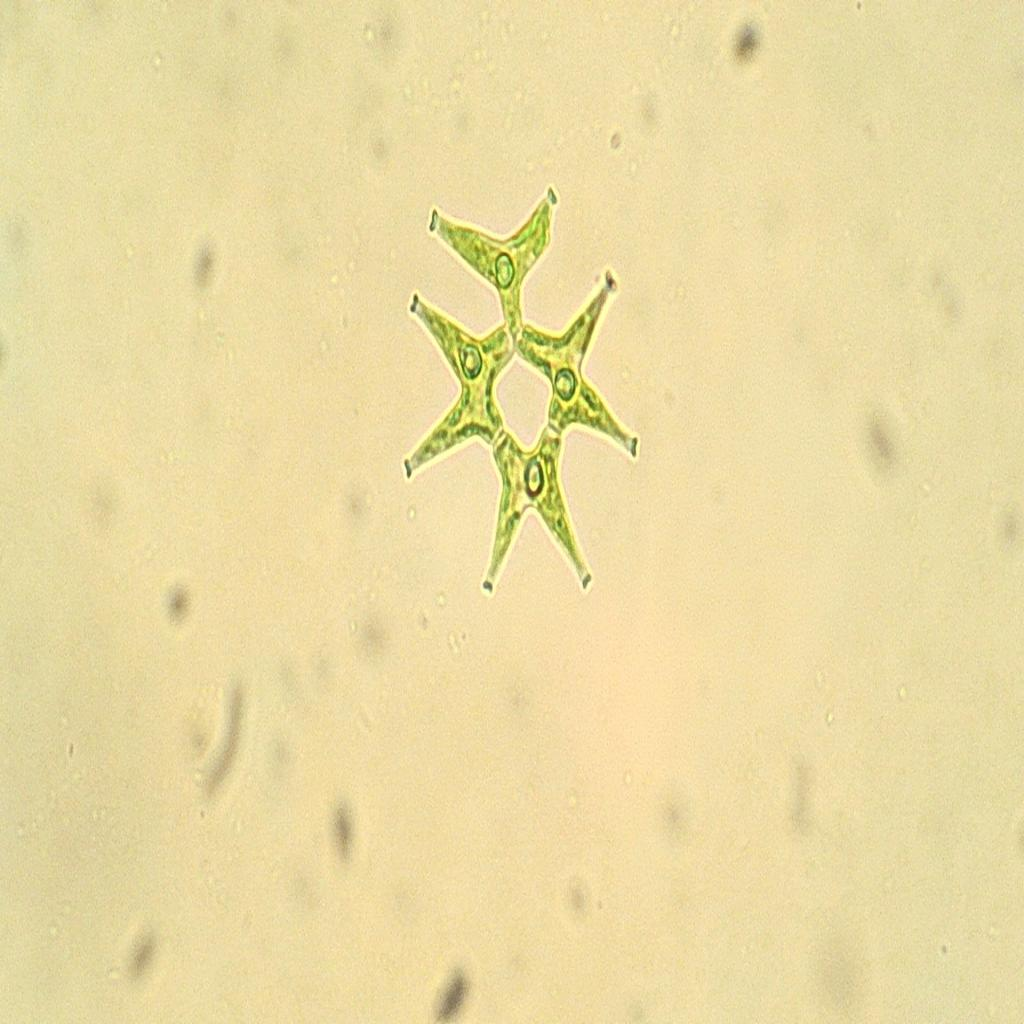Pediastrum_75FI: (387, 159, 649, 619)
